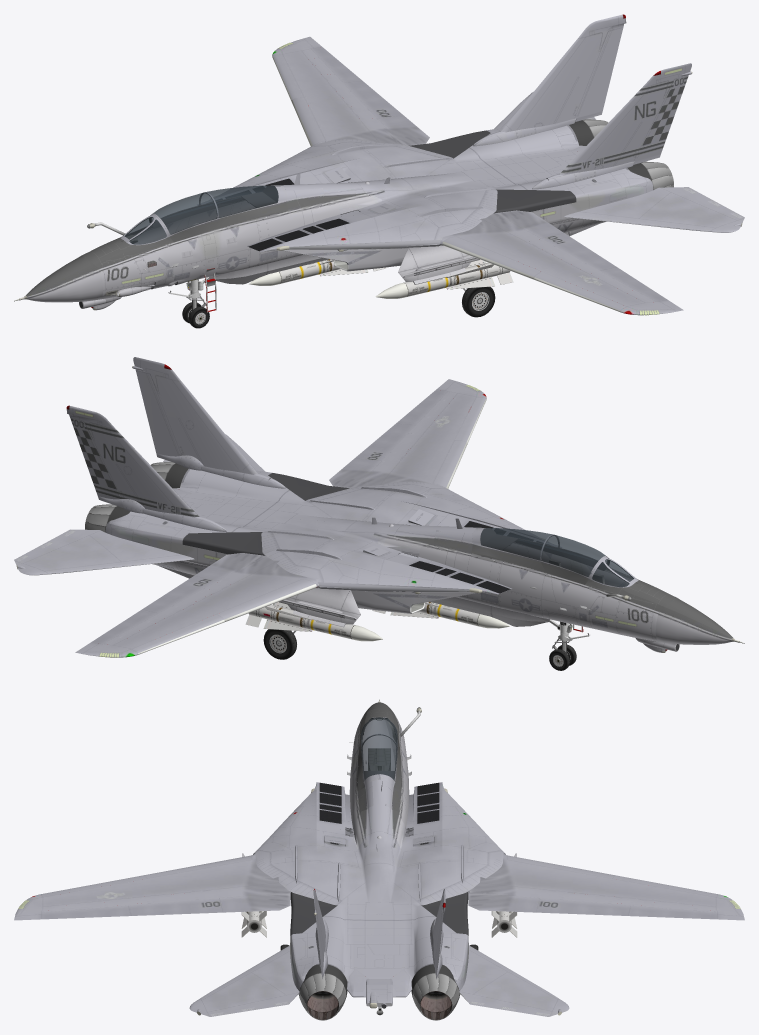
The picture shows the model from 3 angles, top to bottom: view 1: azimuth 30°, elevation 25°; view 2: azimuth 150°, elevation 25°; view 3: azimuth 270°, elevation 25°; orthographic projection. The views are drawn at different scales.
Parts seen in each view (by area): view 1: mid, nose, aft, finR, finL, canopy, wingL, stabL, wingR, pylons, flapL, flapR (+14 smaller); view 2: mid, nose, aft, finL, finR, canopy, wingR, stabR, wingL, pylons, flapR, flapL (+13 smaller); view 3: mid, aft, wingL, wingR, canopy, stabR, stabL, flapR, flapL, nose, sealL, sealR (+12 smaller).
Part boxes in pixels (x1,y1,x2,y2): mid: [221, 139, 550, 271]; nose: [82, 195, 289, 299]; aft: [472, 68, 681, 232]; finR: [473, 14, 660, 146]; finL: [532, 63, 692, 189]; canopy: [151, 178, 349, 251]; wingL: [440, 214, 683, 315]; stabL: [564, 187, 744, 232]; wingR: [272, 36, 397, 143]; pylons: [209, 245, 479, 284]; flapL: [493, 210, 667, 301]; flapR: [309, 47, 429, 145]; mid: [205, 481, 537, 613]; nose: [469, 538, 676, 641]; aft: [75, 411, 286, 575]; finL: [132, 357, 285, 488]; finR: [66, 364, 226, 531]; canopy: [409, 521, 607, 593]; wingR: [75, 556, 318, 657]; stabR: [14, 529, 194, 575]; wingL: [361, 379, 486, 486]; pylons: [279, 588, 549, 627]; flapR: [91, 553, 266, 644]; flapL: [329, 389, 449, 488]; mid: [253, 779, 505, 927]; aft: [290, 922, 468, 1008]; wingL: [14, 853, 288, 920]; wingR: [470, 853, 744, 920]; canopy: [319, 717, 439, 823]; stabR: [459, 945, 569, 1016]; stabL: [189, 945, 299, 1016]; flapR: [468, 890, 716, 919]; flapL: [42, 890, 290, 919]; nose: [311, 708, 447, 797]; sealL: [290, 892, 337, 935]; sealR: [421, 892, 468, 935].
Bounding box in the file's own units: 19.09 × 5.29 × 19.16.
26 materials, 18 textured.
